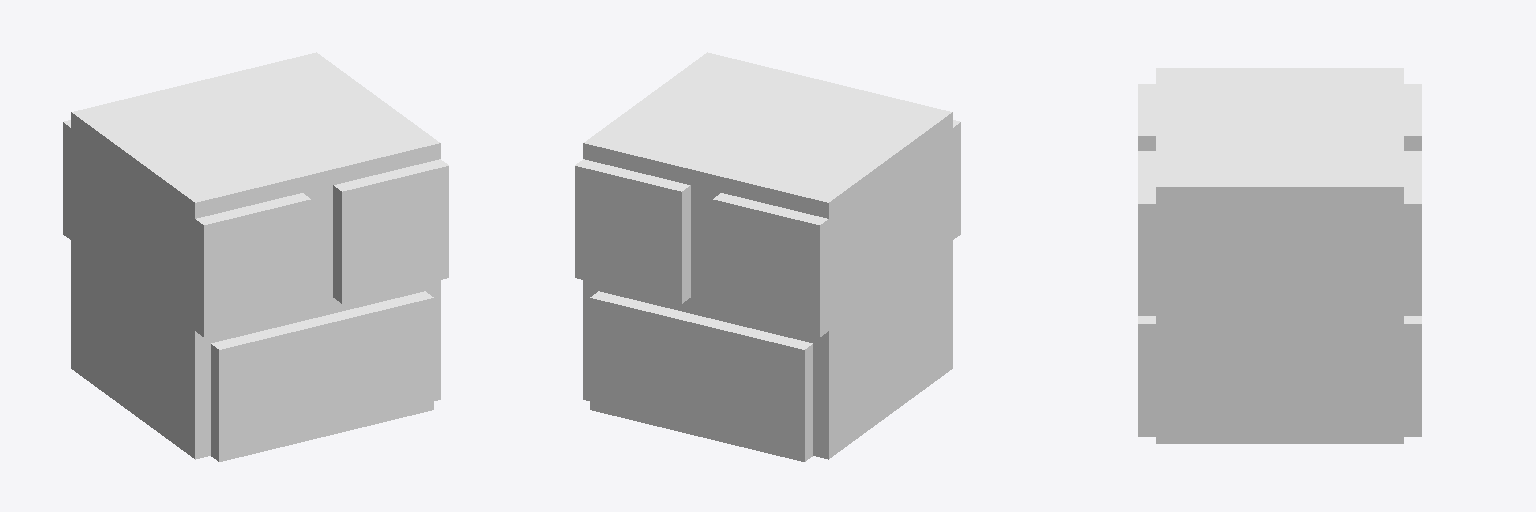
Rendered from Dungeon-4-Wall-2sides.obj.
3 views of the same model, side by side, from view 1: azimuth 30°, elevation 25°; view 2: azimuth 150°, elevation 25°; view 3: azimuth 270°, elevation 25° (orthographic).
Visible parts, largest first — view 1: Wall-2sides; view 2: Wall-2sides; view 3: Wall-2sides.
Boxes of the visible parts, <box> form: Wall-2sides: <box>63,52,448,461</box>; Wall-2sides: <box>575,52,960,461</box>; Wall-2sides: <box>1138,68,1421,443</box>.
Size of the model in its own units: 1.6 by 1.6 by 1.6.